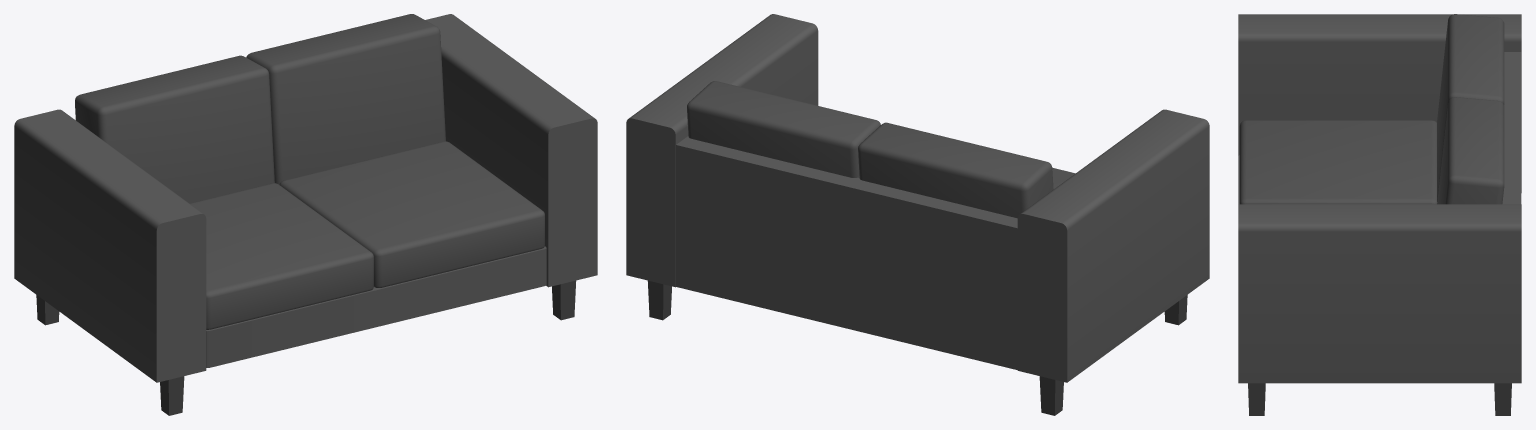
Rendered from SM_Props_Furniture_04.fbx.
The picture shows the model from 3 angles, left to right: view 1: azimuth 30°, elevation 25°; view 2: azimuth 150°, elevation 25°; view 3: azimuth 270°, elevation 25°; orthographic projection.
Parts seen in each view (by area): view 1: SM_Props_Furniture_04; view 2: SM_Props_Furniture_04; view 3: SM_Props_Furniture_04.
Boxes of the visible parts, x1,y1,x2,y2 form: SM_Props_Furniture_04: (14,14,597,415); SM_Props_Furniture_04: (626,14,1209,415); SM_Props_Furniture_04: (1238,14,1521,415).
Size of the model in its own units: 1.79 by 0.8676 by 1.
